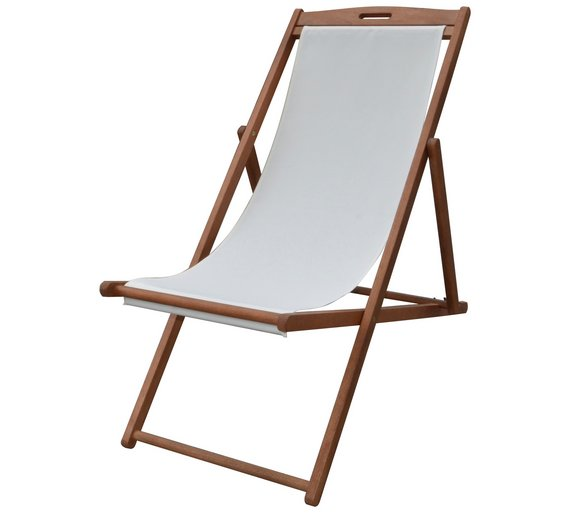chairs: (84, 5, 473, 505)
